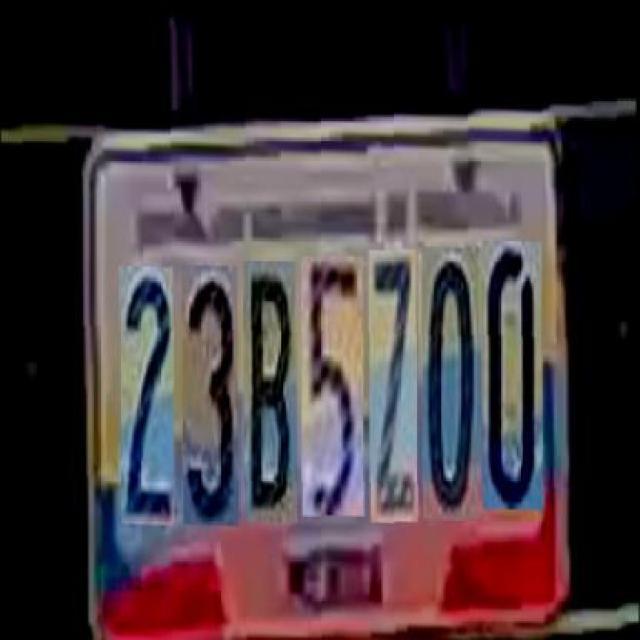0: (481, 233, 541, 504)
2: (118, 254, 172, 514)
3: (181, 254, 236, 515)
5: (300, 247, 362, 508)
b: (242, 251, 295, 514)
o: (420, 239, 478, 513)
z: (368, 242, 415, 516)
